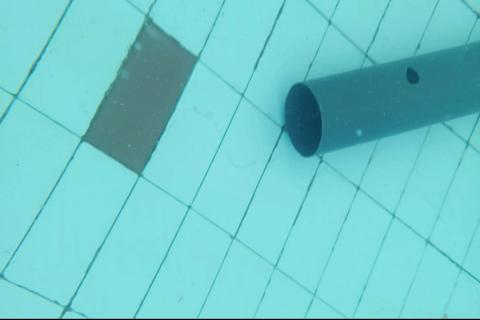kebocoran: (406, 65, 421, 86)
